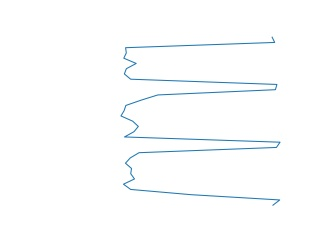majorRiverChannelBar: (116, 35, 284, 208)
